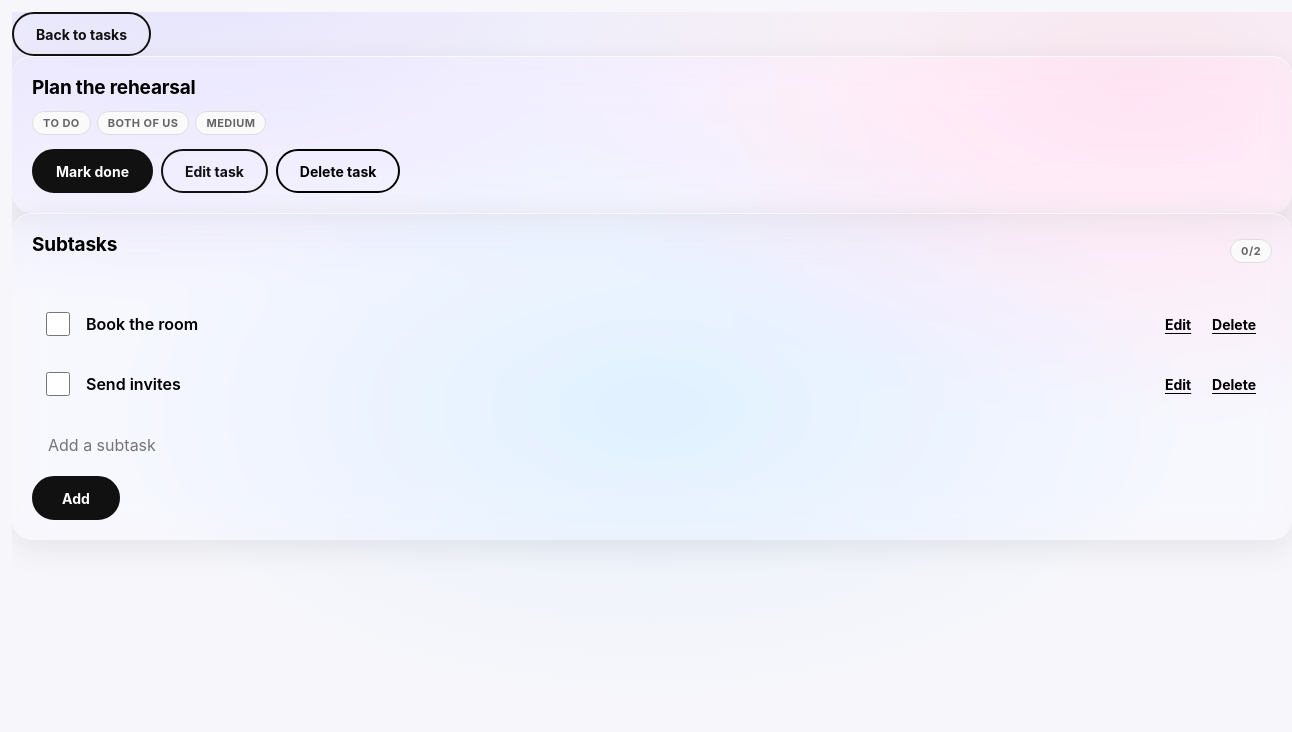
Test: subtasks › adds a subtask under the parent
The width and height of the screenshot is (1292, 732).
Step 1. Type "Order flowers" into the field named "New subtask" → (652, 445), box [32,422,1272,468]
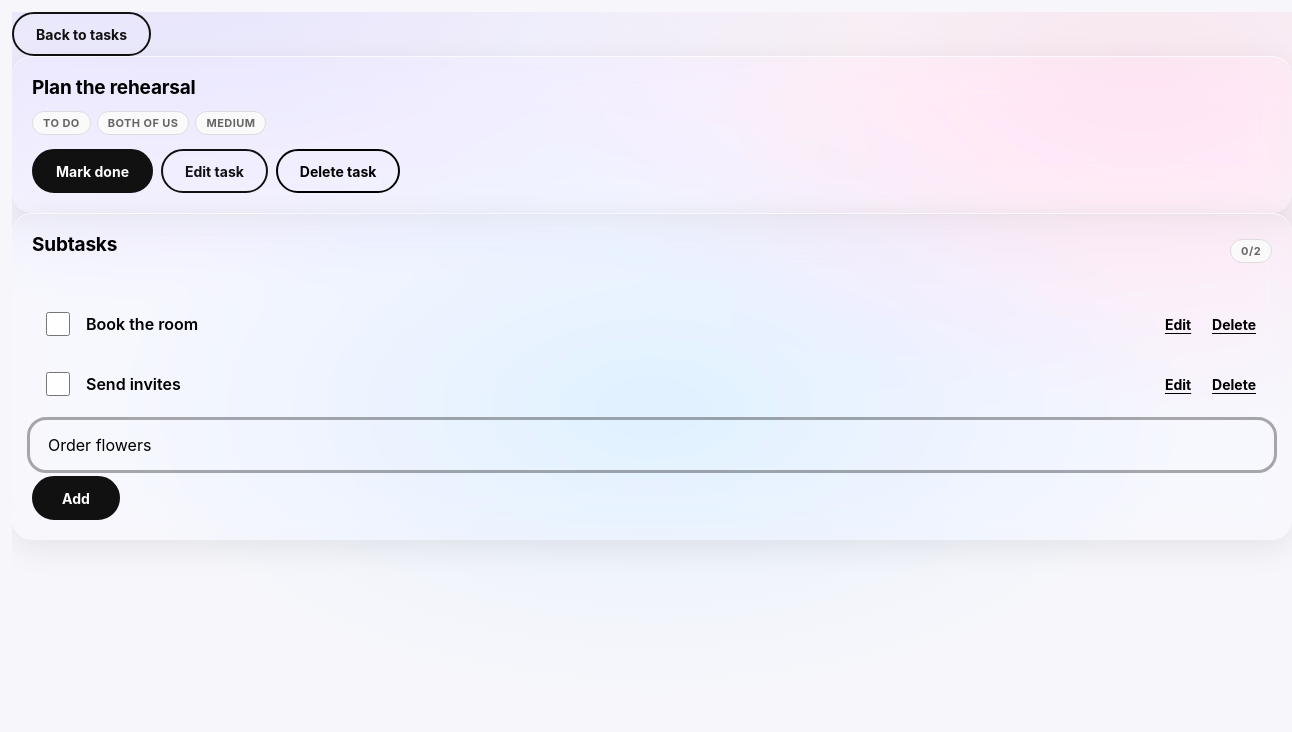
Step 2. Click the button "Add" → click(76, 498), box [32,476,120,520]
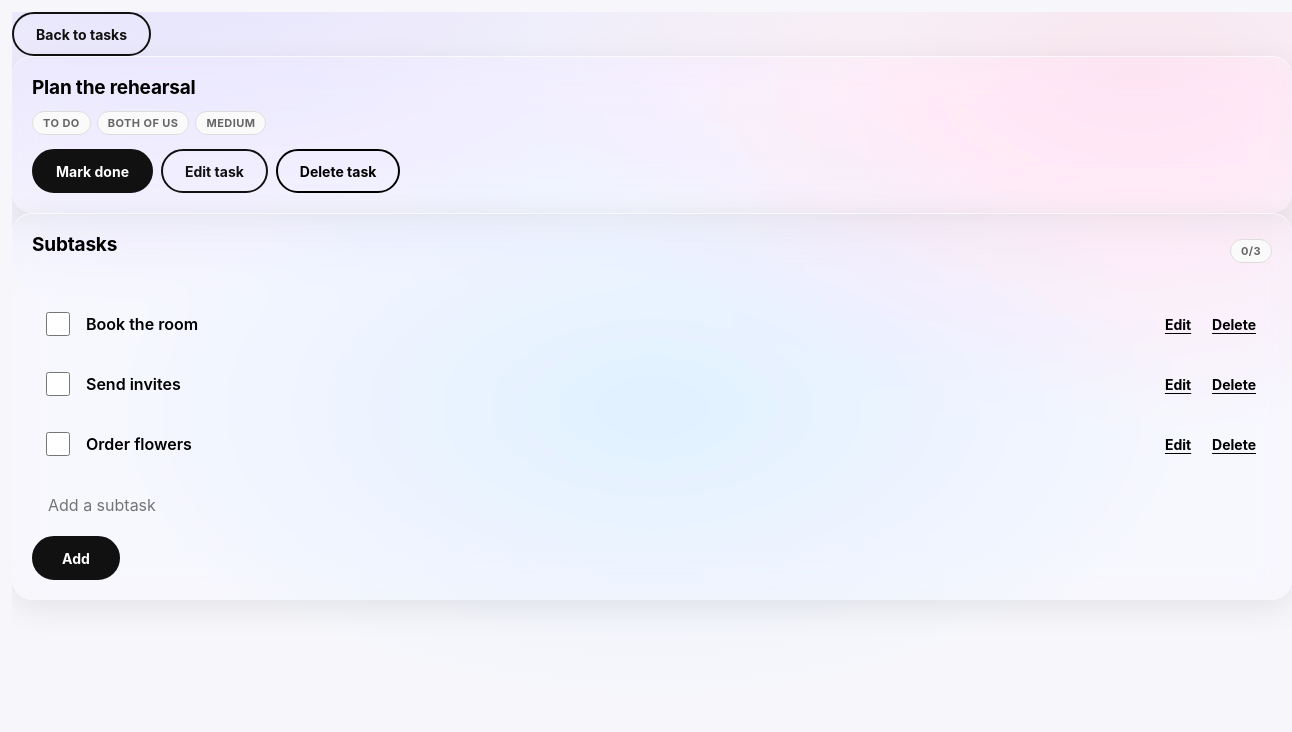
Result: the text named "0 of 3 done" is shown at [1230,238,1272,262]
